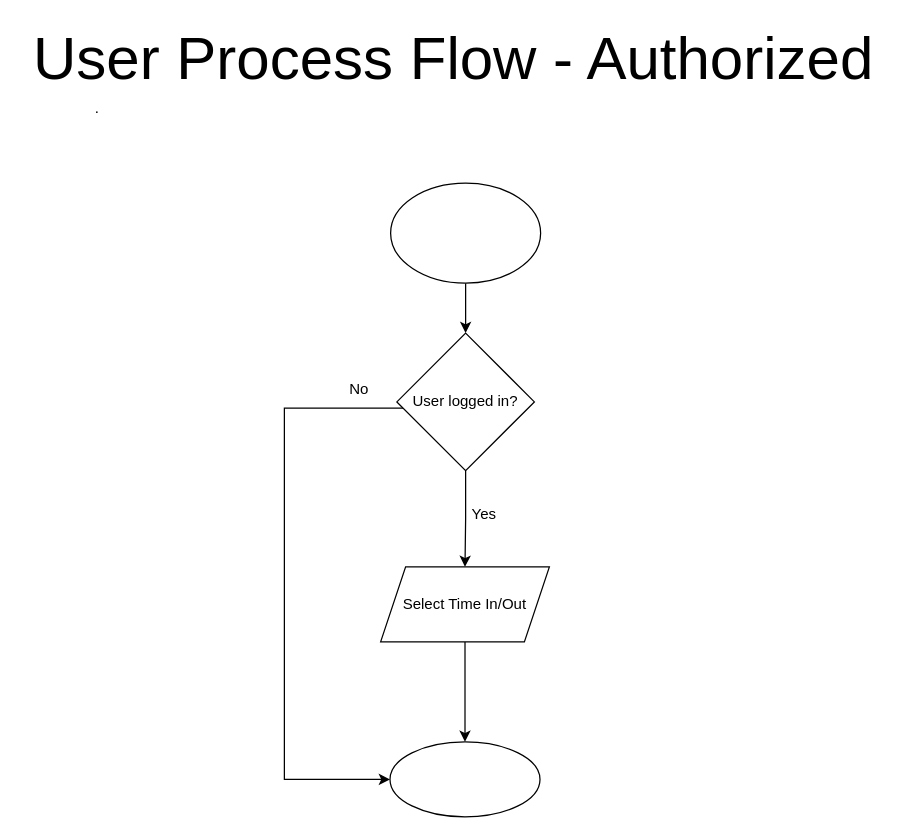
Image size: 905x839. Some labels were removed from this diagram. Here are the shapes that lost their labels. From the top down, the centre of each, then its label:
At pixel 465 232: "Start".
At pixel 464 779: "End".
